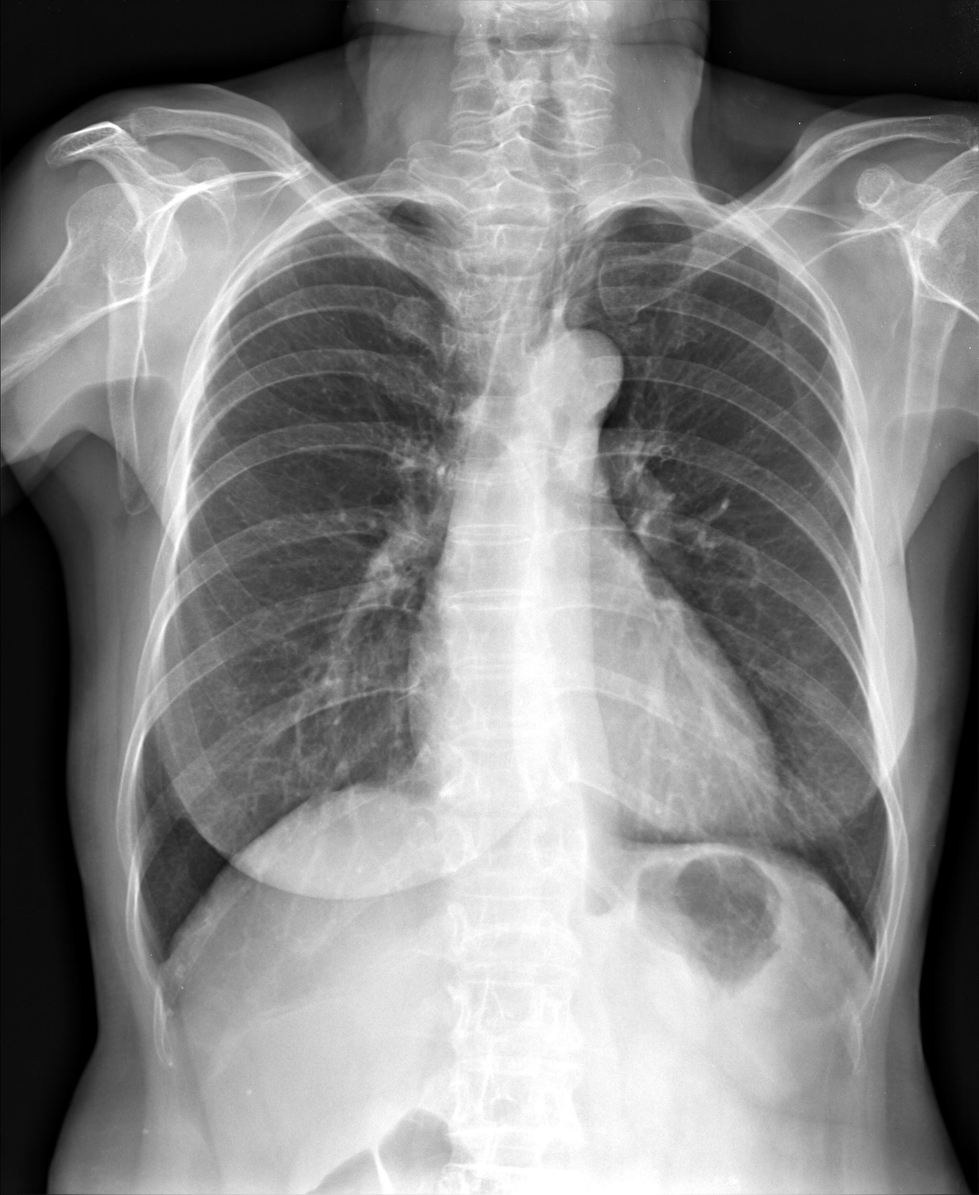Cardiomegaly: (402, 660, 785, 865)
Pleural thickening: (328, 192, 452, 231), (593, 193, 697, 222), (141, 941, 179, 1014)
